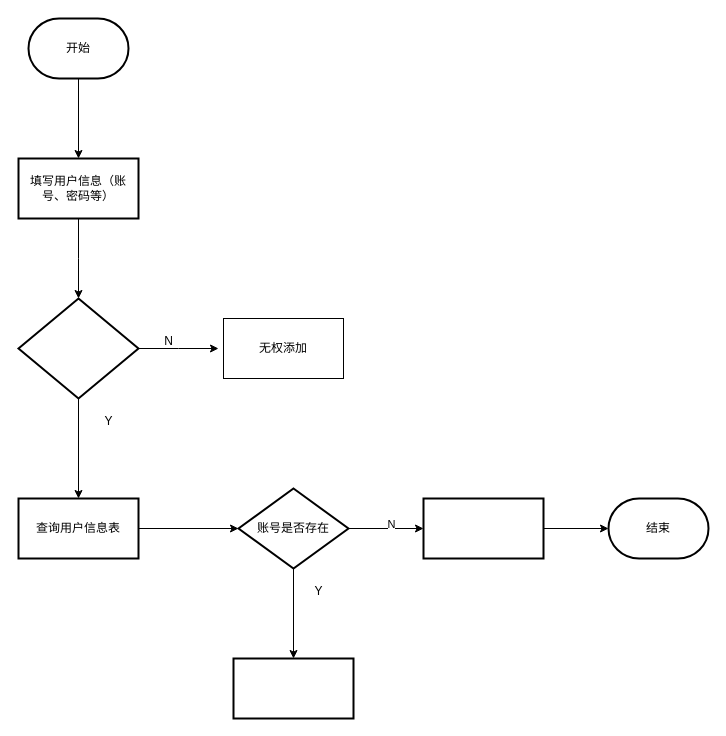
This 726x736 diagram has some shape labels left out. The shapes that lost their labels are listed below. From the top down, each one's box as (x1, y1, x2, y2) in pixels, then its label:
(17, 297, 139, 399): 是否拥有添加权限
(422, 497, 544, 559): 成功添加用户
(232, 657, 354, 719): 添加用户失败
